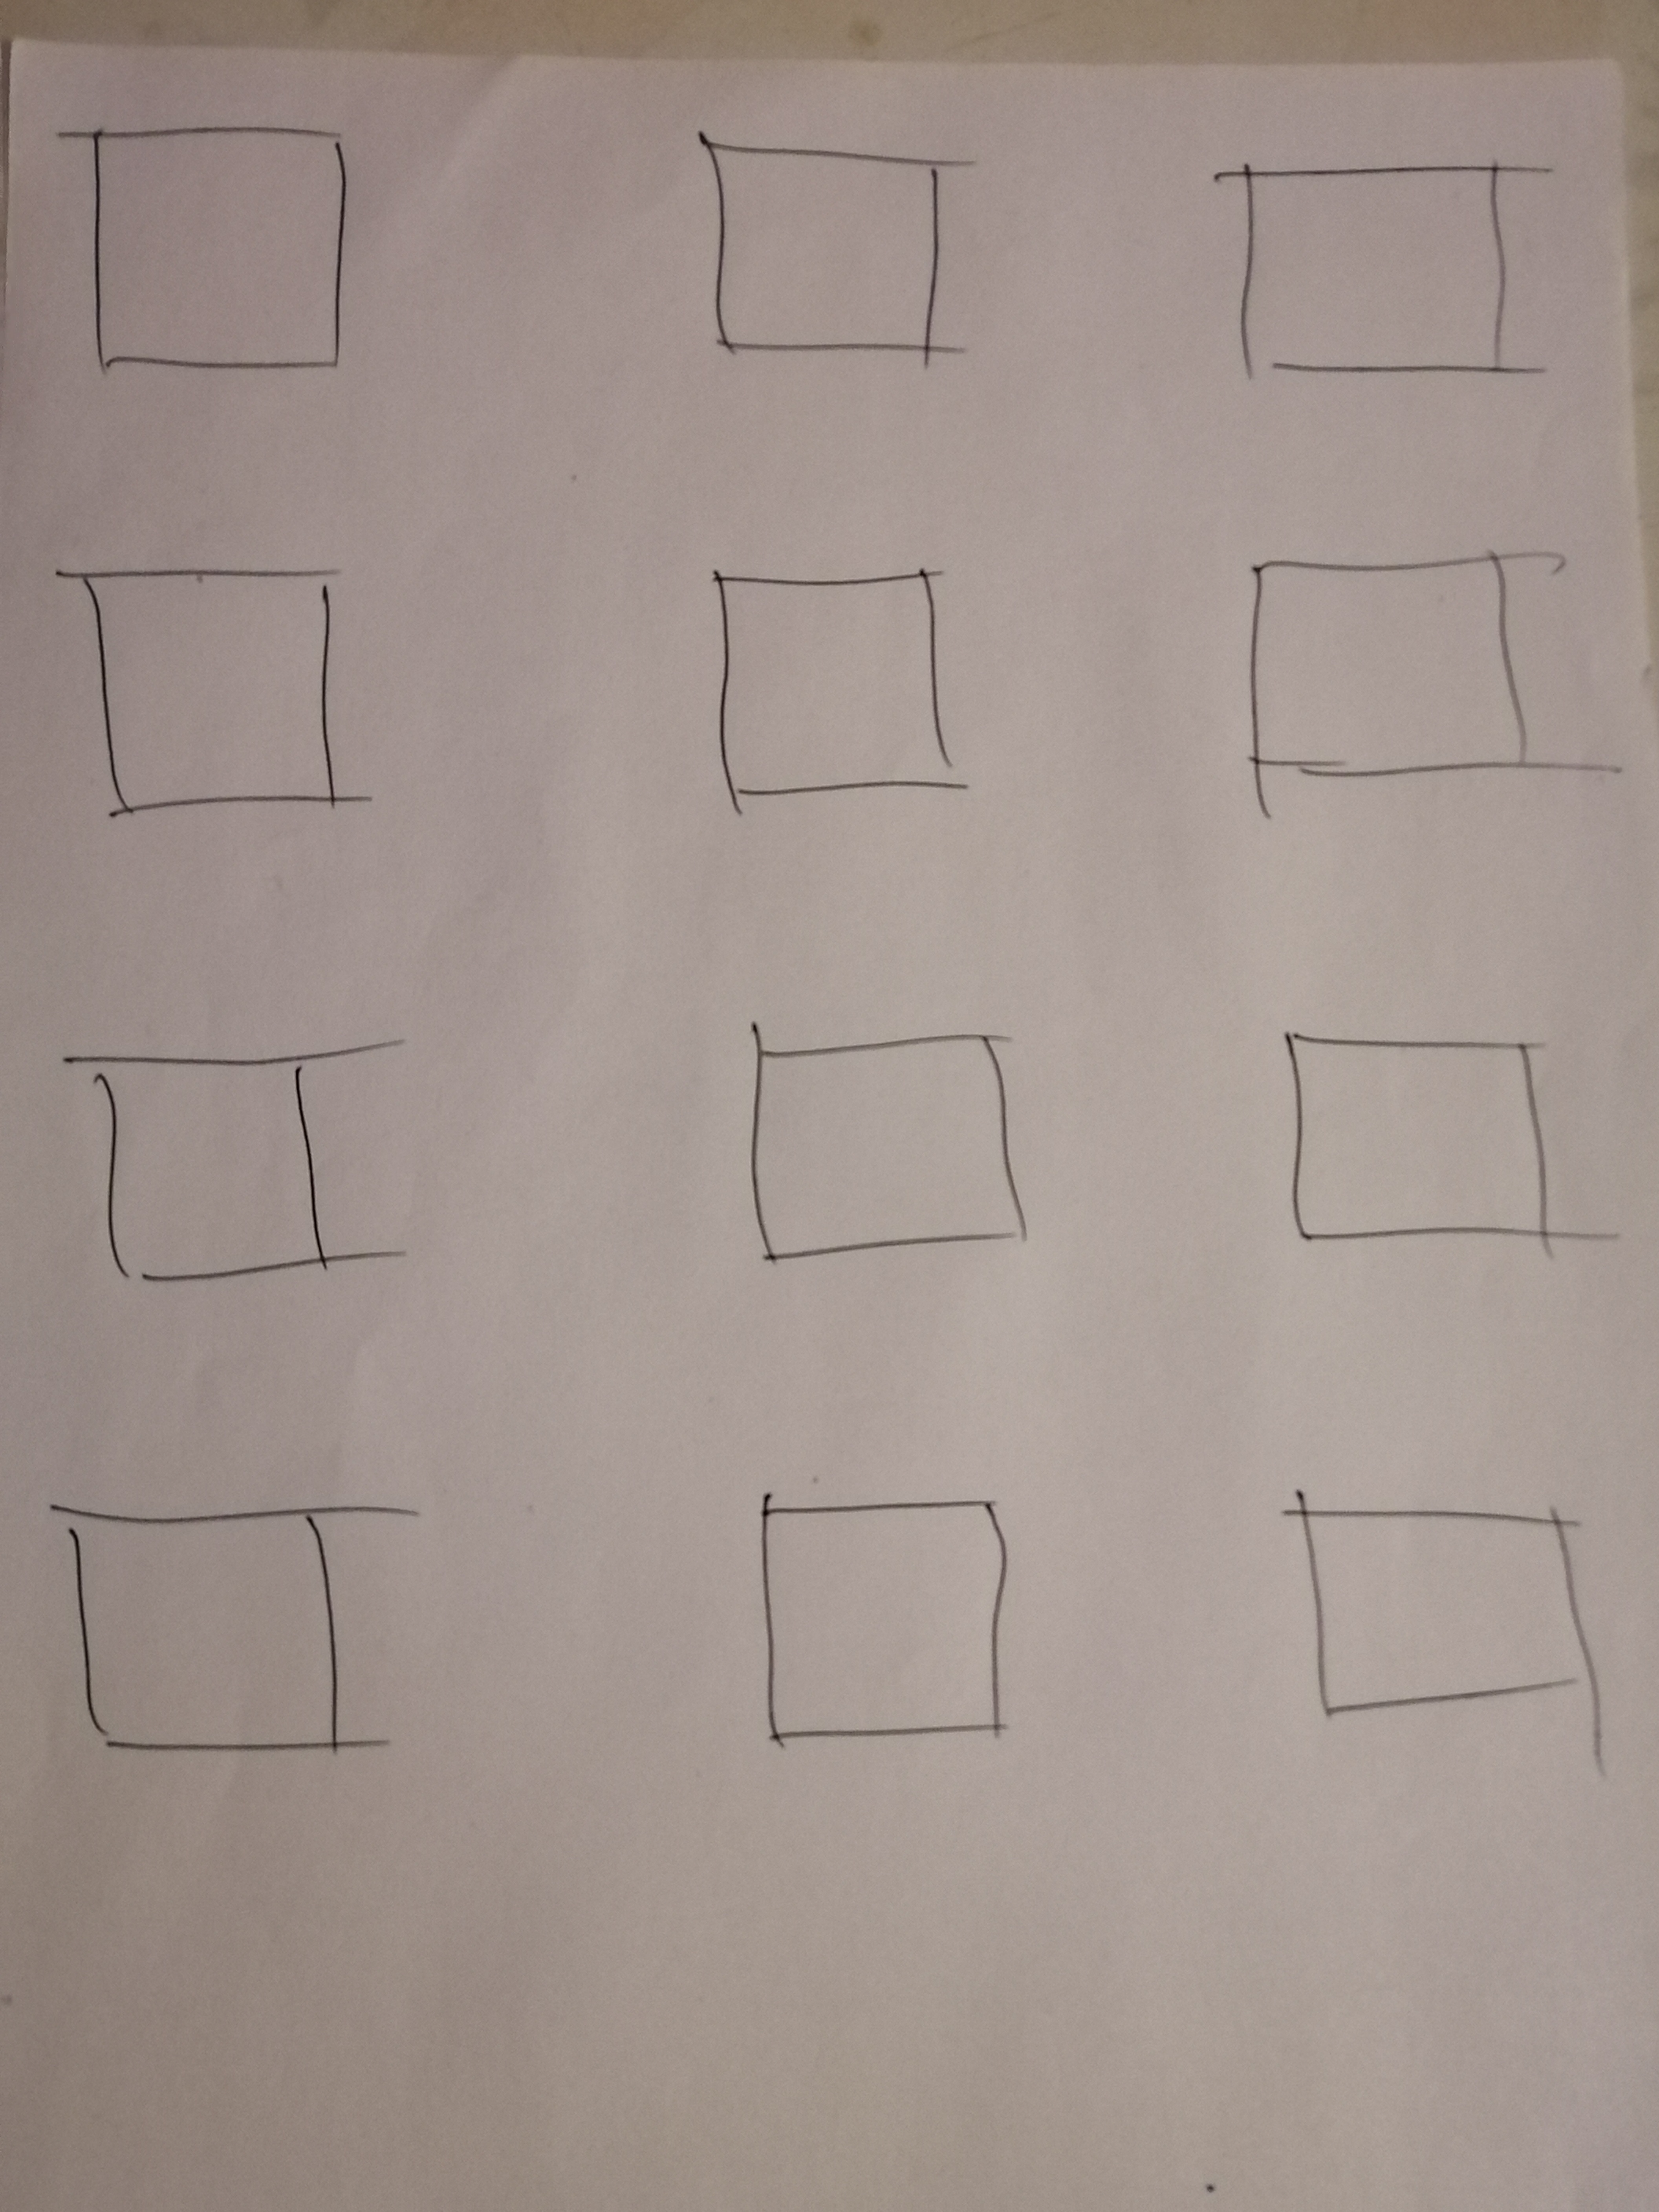process: (1195, 517, 1638, 859), (21, 1463, 453, 1791), (1213, 974, 1642, 1284), (35, 1010, 430, 1334), (31, 92, 416, 423), (1260, 1449, 1628, 1784), (660, 89, 1028, 420), (1171, 127, 1584, 416), (709, 970, 1066, 1294), (24, 552, 406, 845), (709, 1463, 1049, 1777), (681, 542, 1009, 841)
